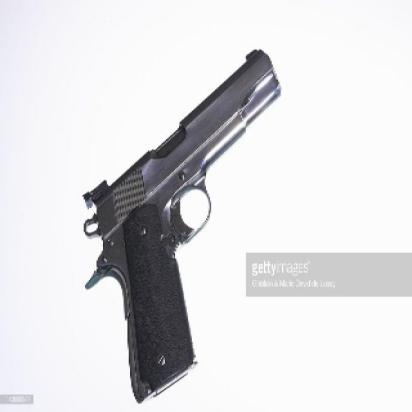Gun: (75, 47, 282, 402)
